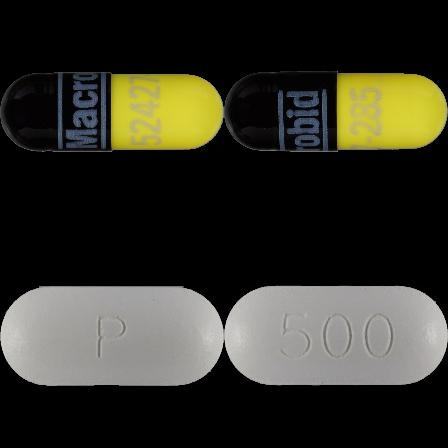33261-160: (0, 0, 224, 224)
